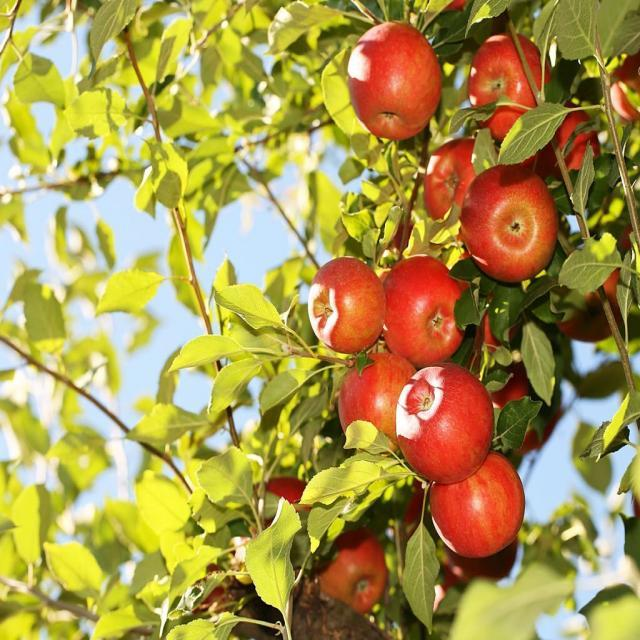Red Apple: (401, 362, 501, 481), (463, 168, 568, 278), (352, 21, 442, 135), (435, 453, 523, 557), (387, 250, 467, 362), (337, 358, 422, 452), (527, 101, 607, 197), (473, 34, 548, 129), (311, 259, 388, 350), (423, 141, 504, 221), (320, 522, 388, 616), (254, 480, 322, 555), (501, 371, 554, 443), (608, 55, 640, 117)
